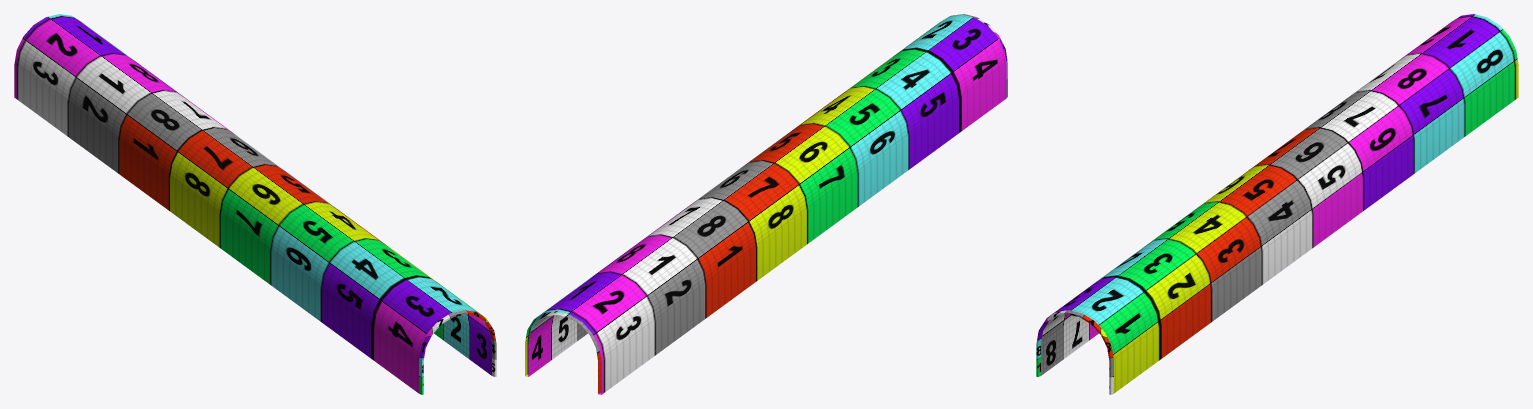
The model's file is tunnel.FBX.
3 views of the same model, side by side, from view 1: azimuth 30°, elevation 25°; view 2: azimuth 150°, elevation 25°; view 3: azimuth 330°, elevation 25° (orthographic).
Visible parts, largest first — view 1: Cylinder001; view 2: Cylinder001; view 3: Cylinder001.
Boxes of the visible parts, x1=… form: Cylinder001: x1=14, y1=14, x2=496, y2=394; Cylinder001: x1=525, y1=14, x2=1007, y2=394; Cylinder001: x1=1036, y1=14, x2=1518, y2=394.
Size of the model in its own units: 2200 by 2000 by 20285.
Materials: 1 (1 with a texture image).
